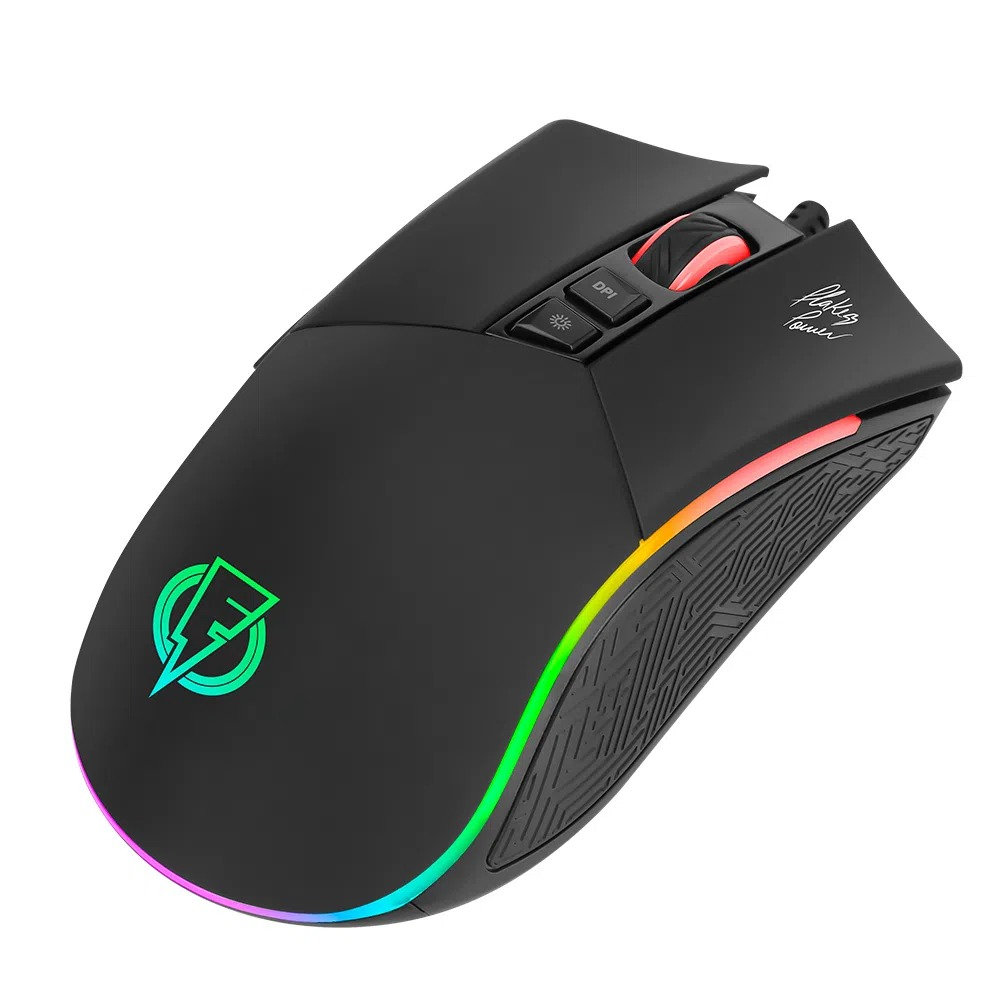mouse: (82, 109, 966, 938)
